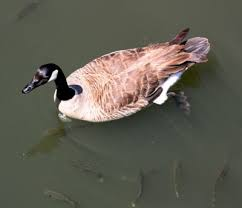goose: (18, 25, 217, 133)
